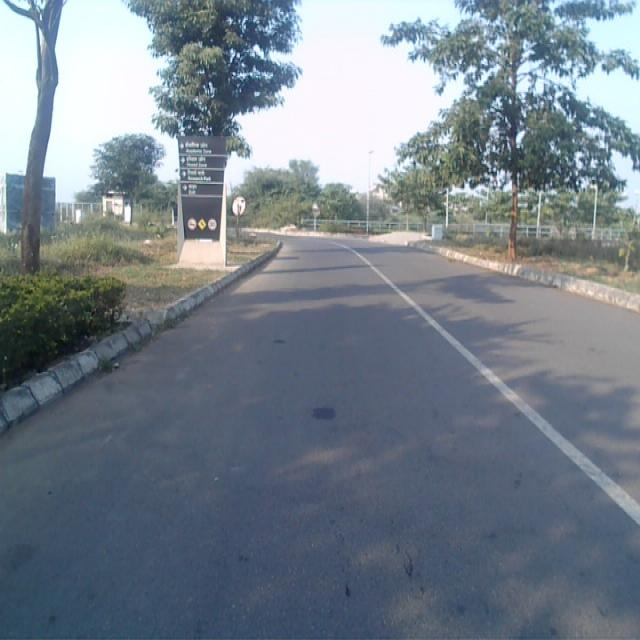lane: (0, 236, 640, 640)
